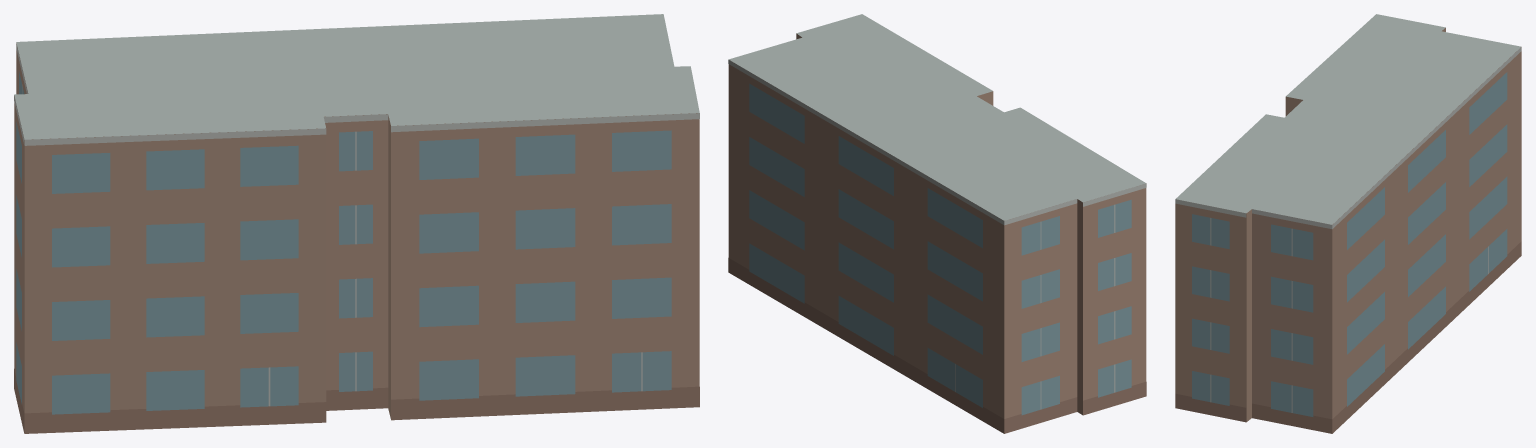
Rendered from survey-upis-32656148.glb.
The picture shows the model from 3 angles, left to right: view 1: azimuth 30°, elevation 25°; view 2: azimuth 150°, elevation 25°; view 3: azimuth 270°, elevation 25°; orthographic projection. The views are drawn at different scales.
Visible parts, largest first — view 1: survey-upis-32656148.tmp; view 2: survey-upis-32656148.tmp; view 3: survey-upis-32656148.tmp.
Part boxes in pixels (x1,y1,x2,y2): survey-upis-32656148.tmp: (14, 14, 699, 433); survey-upis-32656148.tmp: (728, 14, 1146, 433); survey-upis-32656148.tmp: (1175, 14, 1521, 433).
Size of the model in its own units: 25.11 by 11.6 by 17.43.
